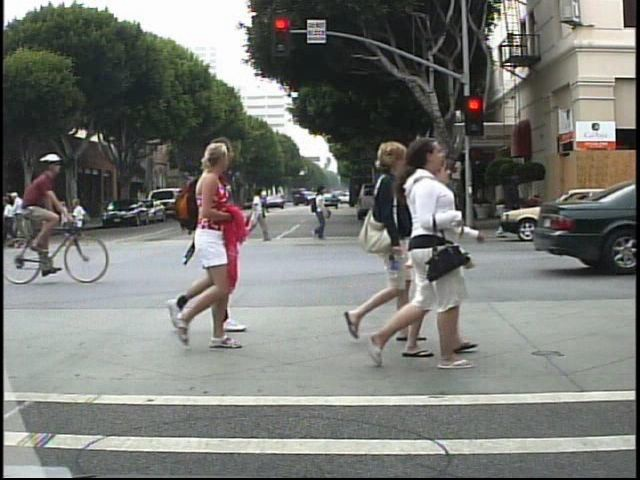person: (396, 136, 485, 377), (159, 138, 254, 349), (393, 159, 481, 364), (335, 140, 409, 350), (200, 142, 253, 340), (5, 149, 71, 278), (303, 183, 337, 245), (242, 185, 275, 248), (412, 177, 441, 241), (10, 188, 32, 250), (377, 187, 392, 223)
